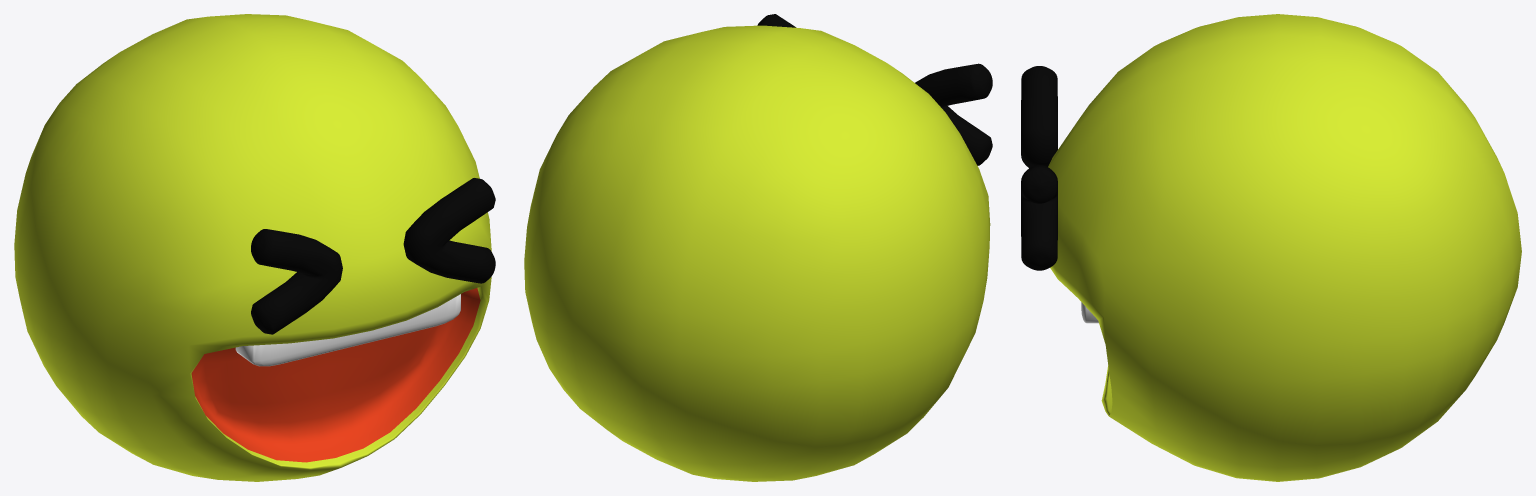
The model's file is Laughing Emojis.fbx.
3 views of the same model, side by side, from view 1: azimuth 30°, elevation 25°; view 2: azimuth 150°, elevation 25°; view 3: azimuth 270°, elevation 25° (orthographic). The views are drawn at different scales.
Parts seen in each view (by area): view 1: Laughing Head, Laughing Eyes, Laughing Teeth; view 2: Laughing Head, Laughing Eyes; view 3: Laughing Head, Laughing Eyes.
Boxes of the visible parts, left/top/right/bottom form: Laughing Head: left=14, top=14, right=491, bottom=481; Laughing Eyes: left=251, top=178, right=495, bottom=334; Laughing Teeth: left=235, top=294, right=460, bottom=366; Laughing Head: left=524, top=25, right=990, bottom=481; Laughing Eyes: left=757, top=14, right=992, bottom=165; Laughing Head: left=1048, top=14, right=1521, bottom=481; Laughing Eyes: left=1021, top=66, right=1057, bottom=270.
Size of the model in its own units: 189 by 188 by 201.
